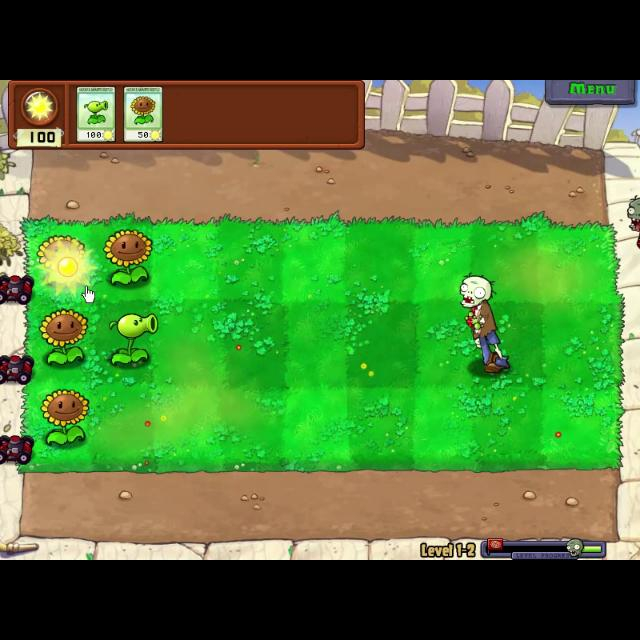Garden: (17, 214, 627, 472)
Menu Button: (542, 80, 634, 104)
Mower: (0, 270, 34, 308), (0, 428, 32, 467), (0, 354, 34, 388)
Peashooter: (74, 84, 116, 146)
Peashooter Seed: (106, 304, 164, 374)
Seed Panel: (6, 80, 367, 150)
Sun: (41, 238, 97, 296)
Sunflower: (122, 84, 164, 144)
Sunflower Seed: (33, 302, 91, 368), (100, 223, 154, 287), (36, 388, 88, 448), (36, 232, 86, 268)
Zombie: (454, 274, 514, 376), (624, 195, 640, 248)
